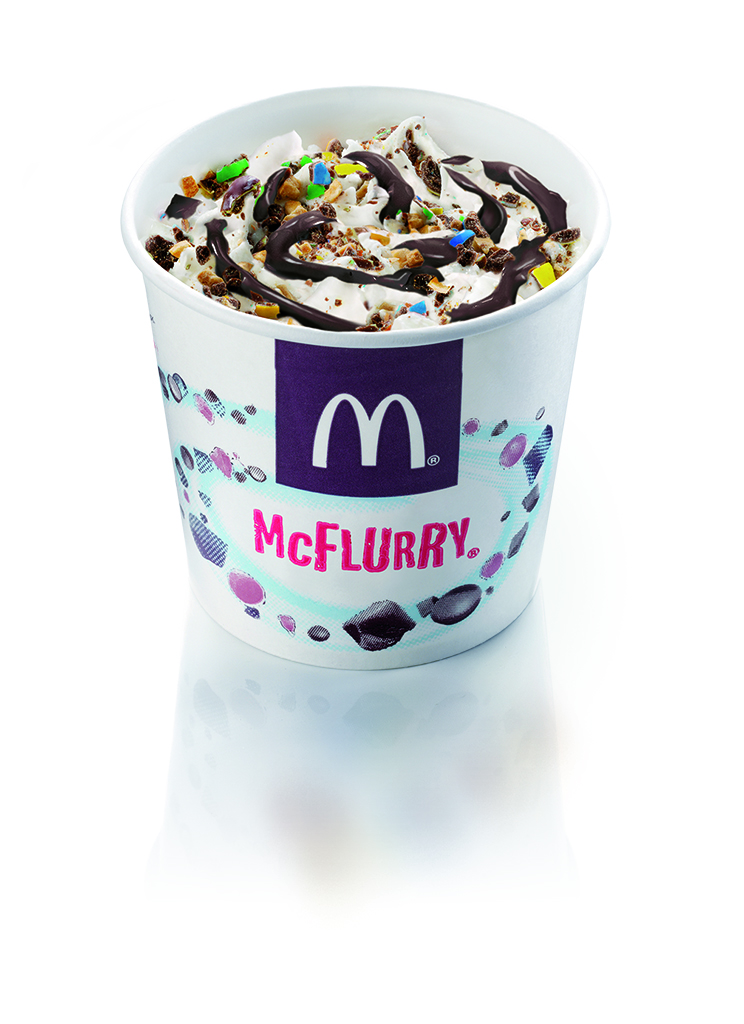mcdonalds: (298, 378, 437, 486)
